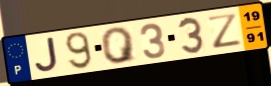3: (177, 15, 205, 55), (139, 22, 167, 60)
9: (63, 31, 94, 71)
J: (33, 36, 59, 74)
Q: (99, 25, 139, 65)
Z: (206, 12, 244, 50)
